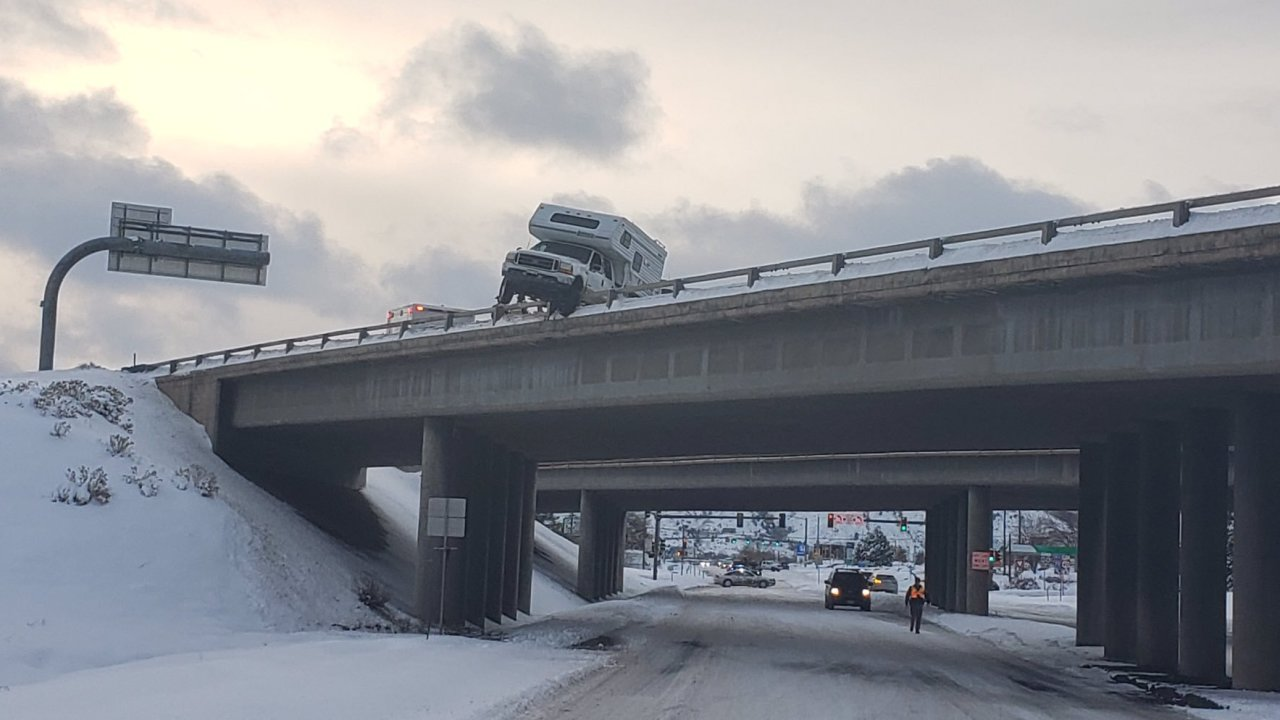bridge: (153, 183, 1276, 504)
